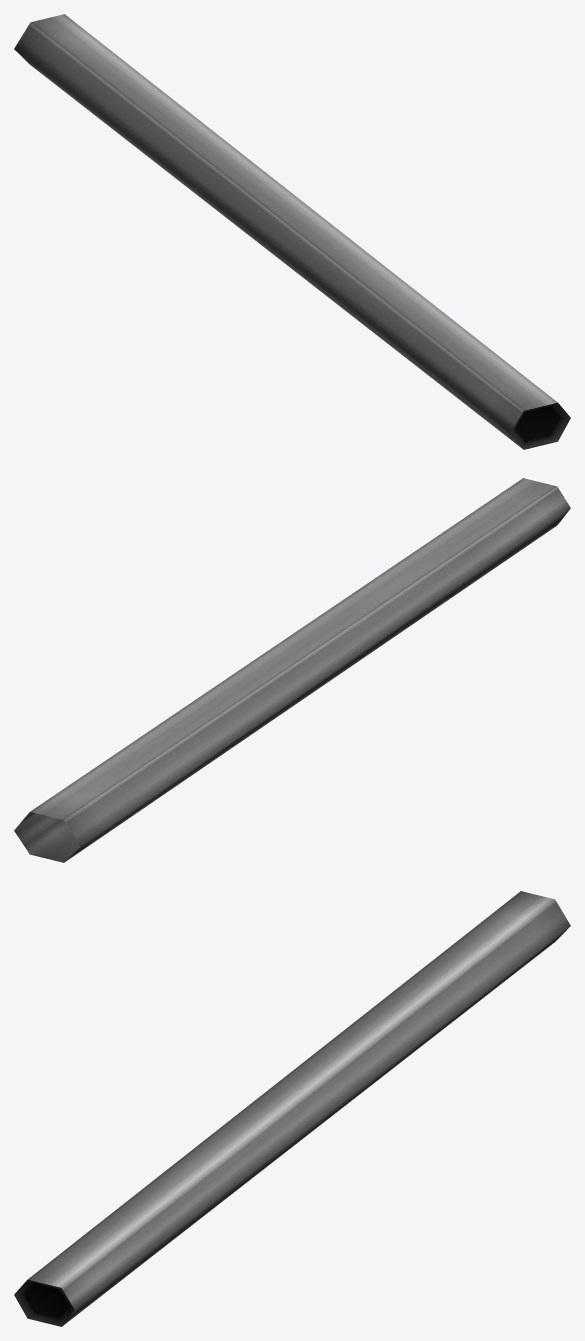
Rendered from exh_lr_br1.glb.
3 renders of one model, top to bottom at view 1: azimuth 30°, elevation 25°; view 2: azimuth 150°, elevation 25°; view 3: azimuth 330°, elevation 25°, orthographic.
Visible parts, largest first — view 1: exh_lr_br1; view 2: exh_lr_br1; view 3: exh_lr_br1.
Boxes of the visible parts, bbox=[...] form: exh_lr_br1: bbox=[14, 14, 570, 449]; exh_lr_br1: bbox=[14, 478, 570, 862]; exh_lr_br1: bbox=[14, 891, 570, 1326].
Bounding box in the file's own units: 0.119 × 0.1136 × 1.53.
1 material, 1 textured.
